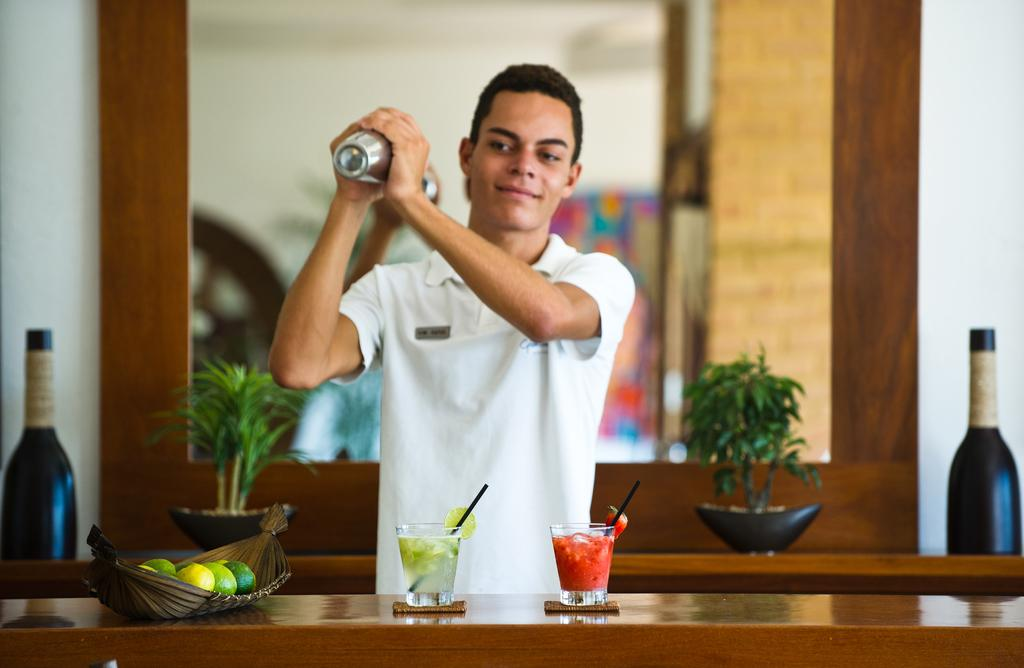no_helmet: (441, 148, 605, 254)
none: (362, 279, 626, 454)
